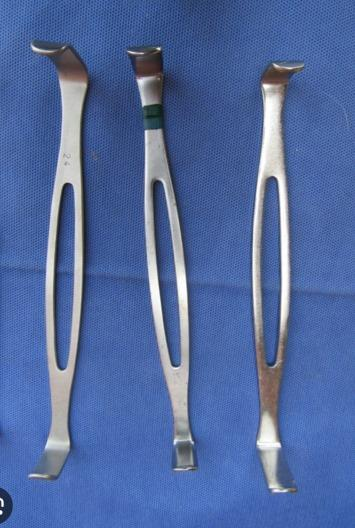Army Navy Retractor: (15, 32, 117, 492), (122, 44, 221, 477), (243, 56, 338, 503)
